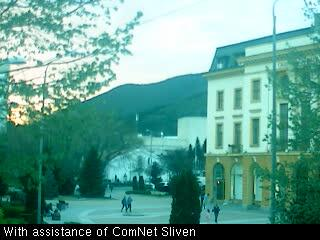person: (212, 203, 221, 223), (126, 196, 134, 214), (200, 188, 206, 212), (204, 191, 211, 211), (121, 195, 127, 213), (205, 207, 212, 220)
